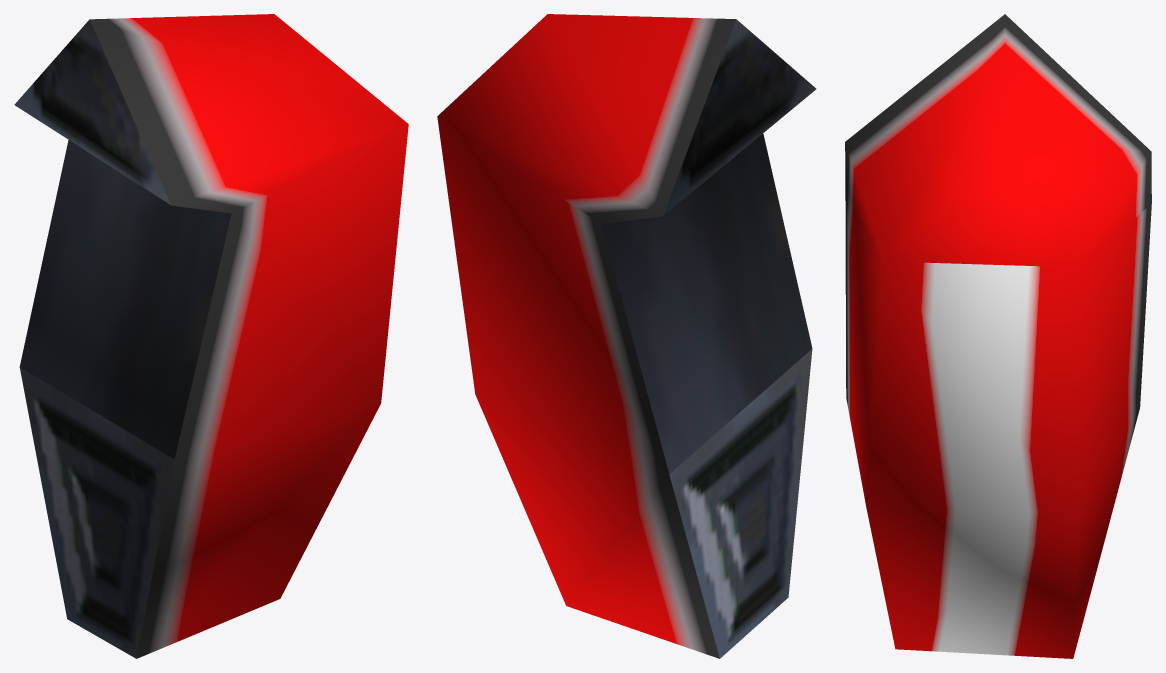
File: ShoeLeft.obj
3 renders of one model, left to right at view 1: azimuth 30°, elevation 25°; view 2: azimuth 150°, elevation 25°; view 3: azimuth 270°, elevation 25°, orthographic. The views are drawn at different scales.
Bounding box in the file's own units: 1.99 × 4.47 × 2.04.
Materials: 1 (1 with a texture image).
